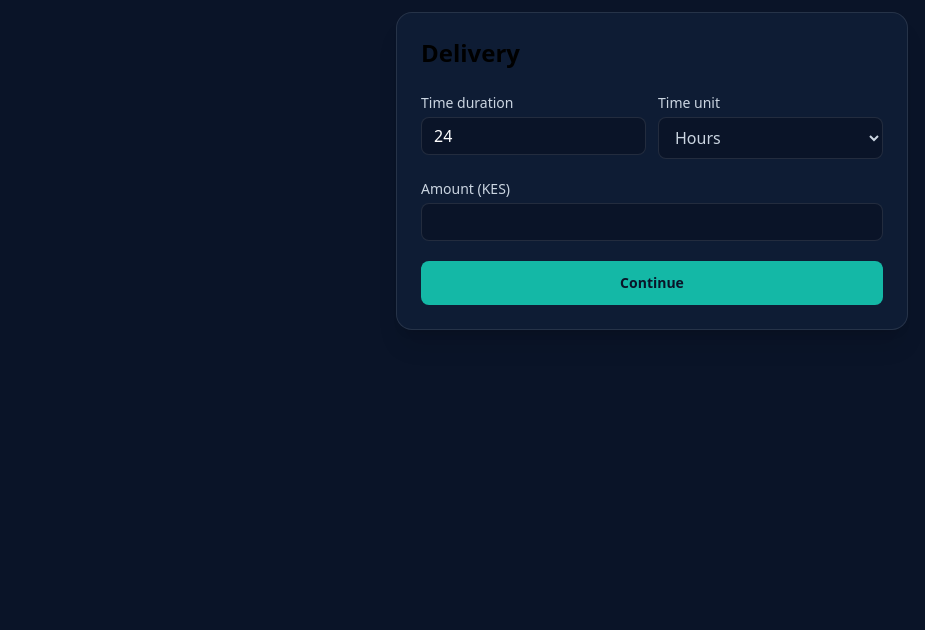
Scenario: delivery carries amount and duration into the receiving-card form without a password
Replace the text in the number field labelled "Time duration" with "2" at [534, 136], box [421,117,646,155]
Select "Days" in the dropdown labelled "Time unit" at [770, 138], box [658,117,883,159]
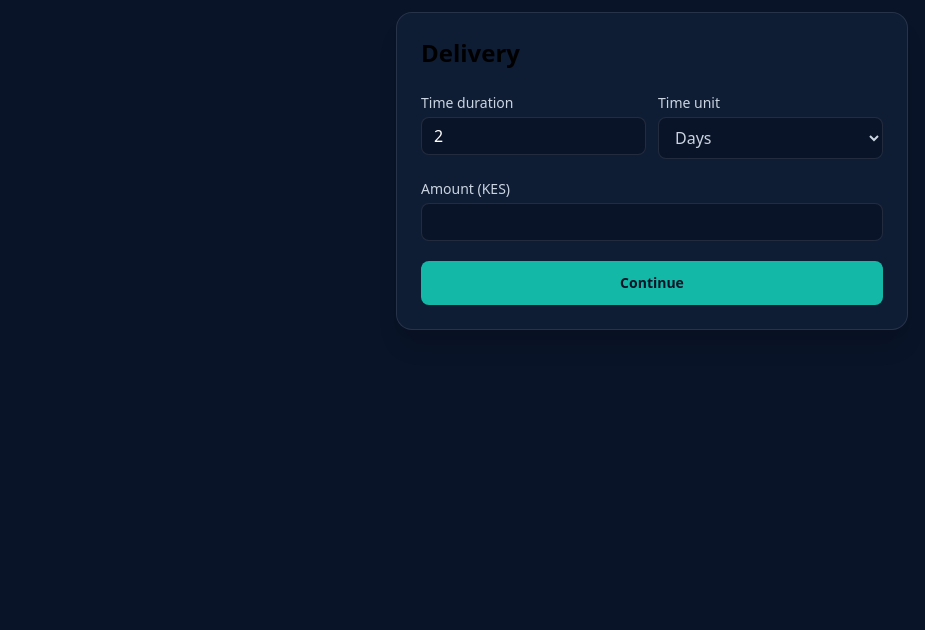
Type "100" into the number field labelled "Amount (KES)" at [652, 222], box [421,203,883,241]
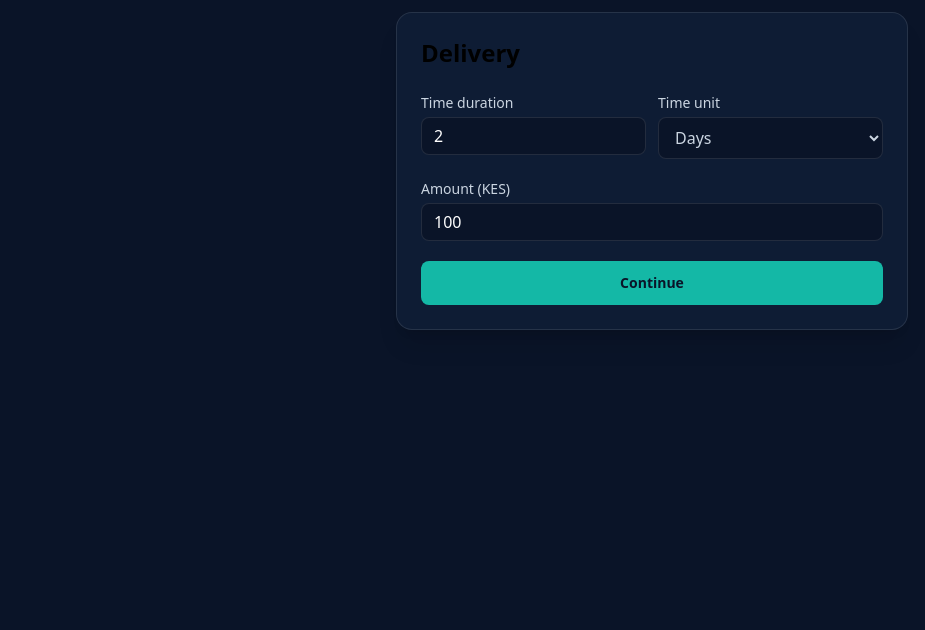
Click the button "Continue" at [652, 283], box [421,261,883,305]
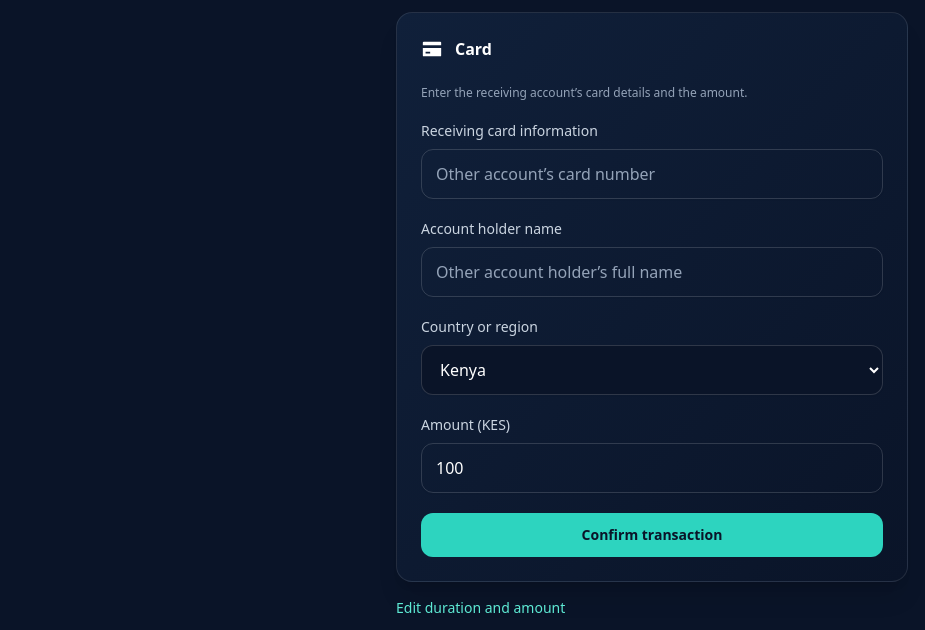
Check: the number field labelled "Amount (KES)" holds "100", box [421,443,883,493]
Type "9900123456789012" into the field named "Other account card number" at [652, 174], box [422,150,882,198]
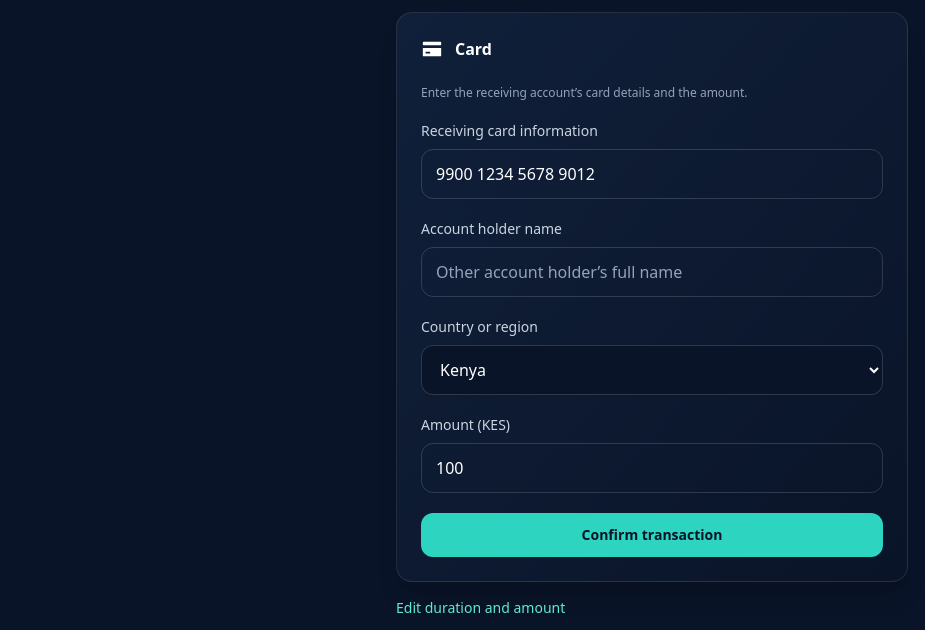
Type "Provider" into the field labelled "Account holder name" at [652, 272], box [421,247,883,297]
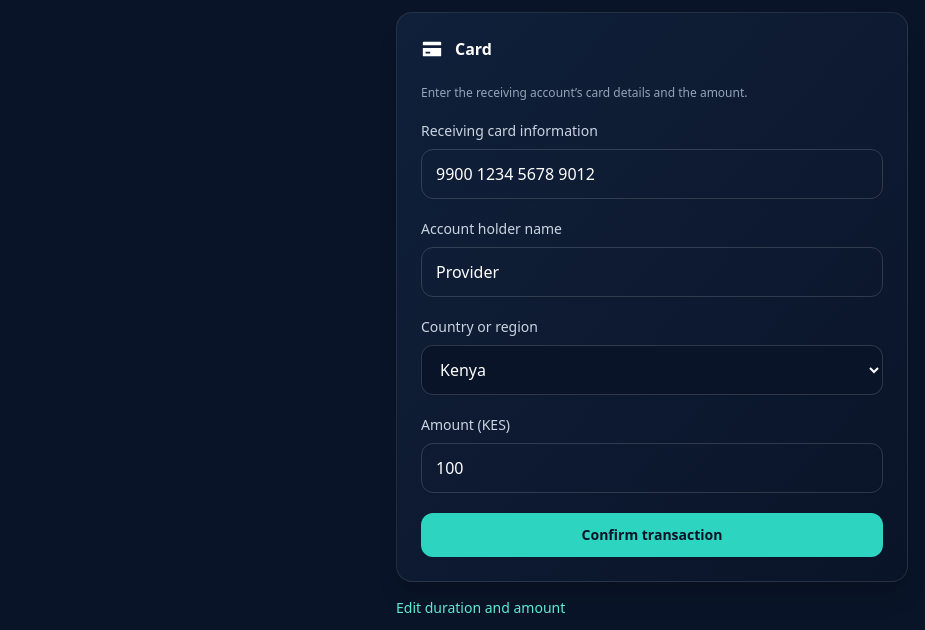
Click the button "Confirm transaction" at [652, 535], box [421,513,883,557]
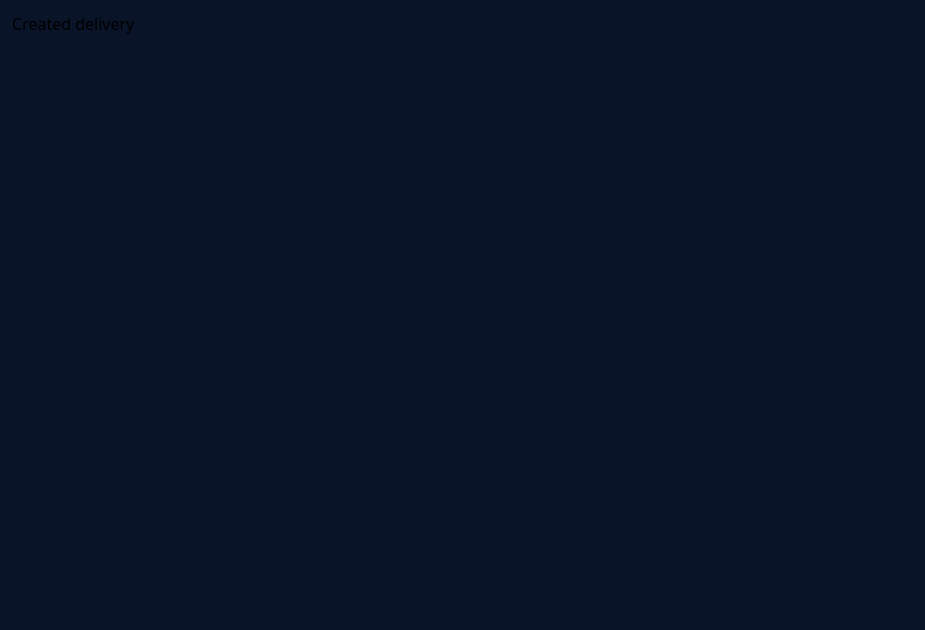
Check: the text "Created delivery" is shown, box [12,13,134,35]
